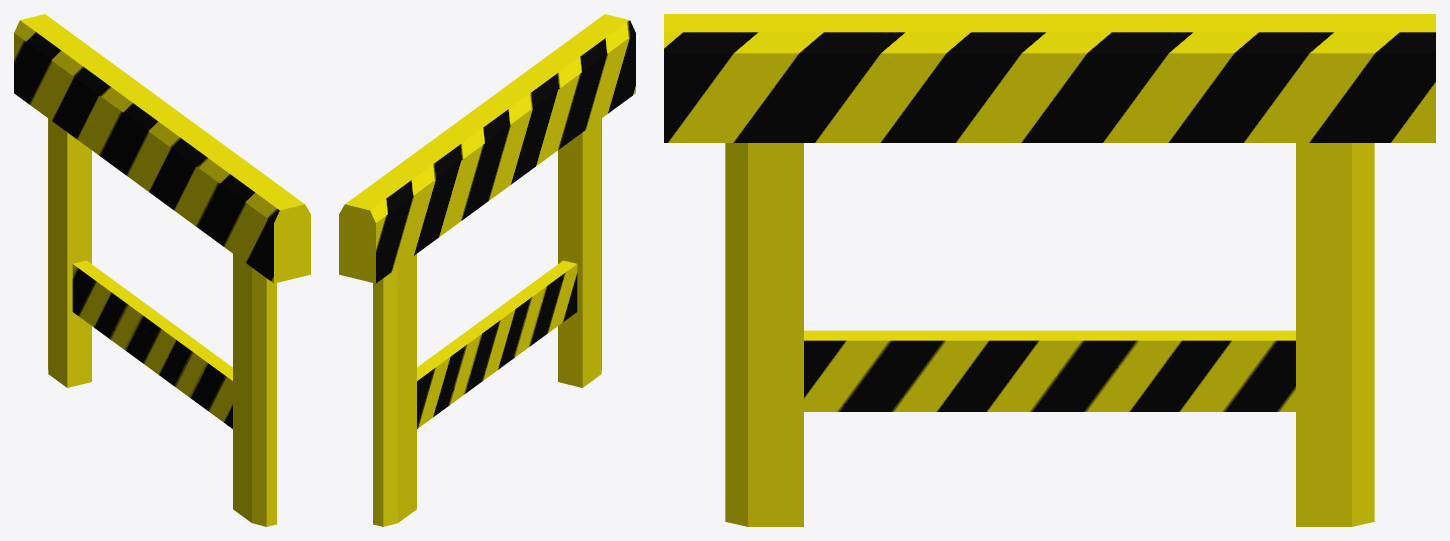
Rendered from obs.fbx.
3 renders of one model, left to right at view 1: azimuth 30°, elevation 25°; view 2: azimuth 150°, elevation 25°; view 3: azimuth 270°, elevation 25°, orthographic. The views are drawn at different scales.
Parts seen in each view (by area): view 1: Cube.002; view 2: Cube.002; view 3: Cube.002.
Part boxes in pixels (x1,y1,x2,y2): Cube.002: [14, 14, 310, 526]; Cube.002: [339, 14, 635, 526]; Cube.002: [664, 14, 1435, 526].
Size of the model in its own units: 24.77 by 214 by 303.
